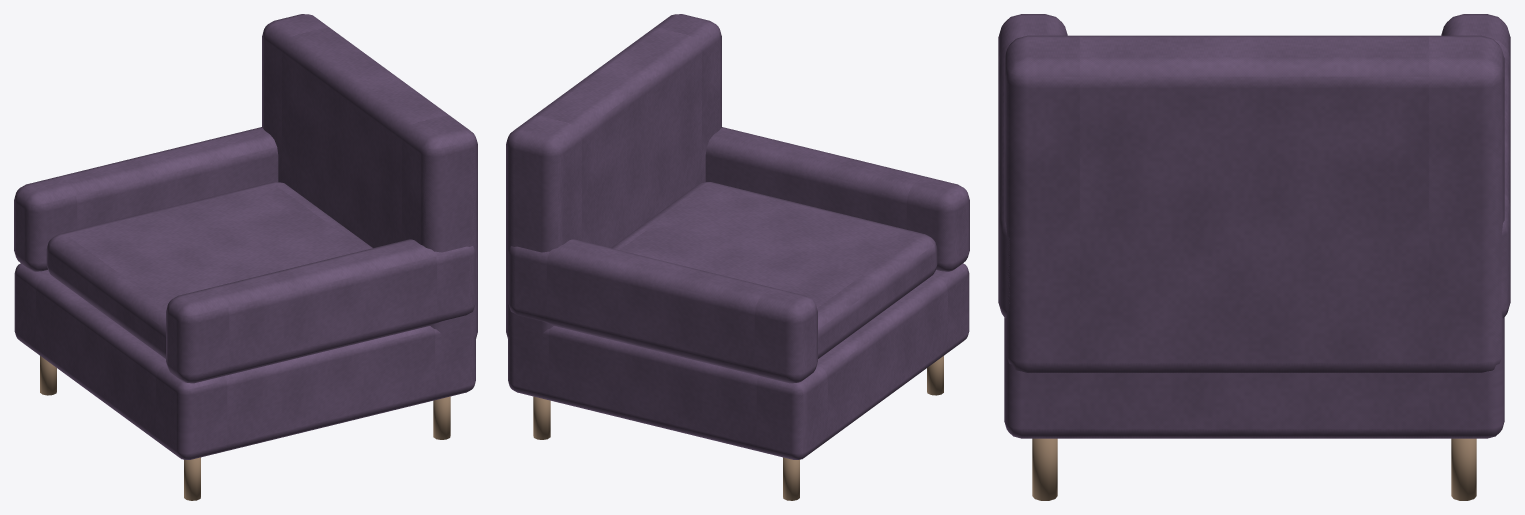
The model's file is consulta.sillon_terapeuta.fbx.
3 views of the same model, side by side, from view 1: azimuth 30°, elevation 25°; view 2: azimuth 150°, elevation 25°; view 3: azimuth 270°, elevation 25° (orthographic). The views are drawn at different scales.
Visible parts, largest first — view 1: Base, Respaldo, Brazo.001, Cojin, Brazo, Pata.001, Pata.003, Pata.002; view 2: Base, Respaldo, Brazo, Cojin, Brazo.001, Pata, Pata.002, Pata.003; view 3: Respaldo, Base, Brazo, Brazo.001, Pata, Pata.001.
Part boxes in pixels (x1,y1,x2,y2): Base: (14,263,475,459); Respaldo: (262,14,477,338); Brazo.001: (166,239,475,383); Cojin: (46,182,372,358); Brazo: (14,127,278,271); Pata.001: (433,396,450,439); Pata.003: (184,457,200,500); Pata.002: (40,356,56,395); Base: (508,263,969,459); Respaldo: (506,14,721,341); Brazo: (508,239,817,383); Cojin: (611,182,937,358); Brazo.001: (705,127,969,271); Pata: (533,396,550,439); Pata.002: (783,457,799,500); Pata.003: (927,356,943,395); Respaldo: (1004,35,1504,372); Base: (1004,337,1504,438); Brazo: (1441,14,1510,318); Brazo.001: (998,14,1067,318); Pata: (1451,438,1476,500); Pata.001: (1032,438,1057,500).
Bounding box in the file's own units: 0.87 × 0.85 × 0.88.
Materials: 2 (1 with a texture image).
